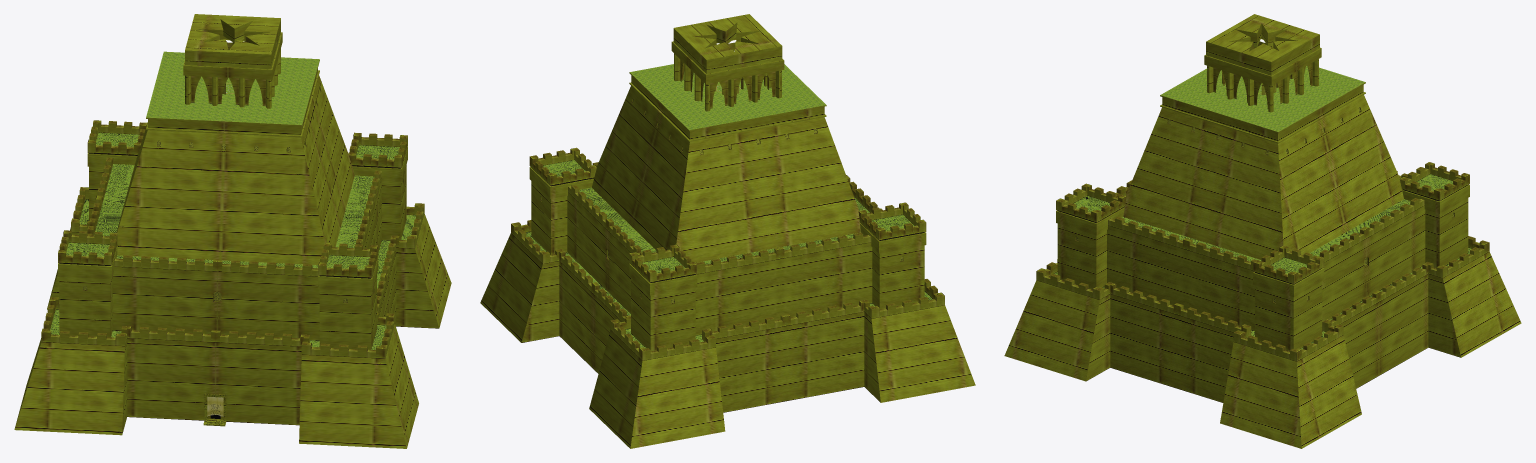
Rendered from Akademie_Brabak.dae.
The picture shows the model from 3 angles, left to right: view 1: azimuth 30°, elevation 25°; view 2: azimuth 150°, elevation 25°; view 3: azimuth 270°, elevation 25°; orthographic projection. The views are drawn at different scales.
Visible parts, largest first — view 1: Erdgeschoss (×4), _1._Obergeschoss (×12), _2._Obergeschoss (×3), group_0 (×3), _3._Obergeschoss (×4); view 2: Erdgeschoss (×3), _2._Obergeschoss (×3), _1._Obergeschoss (×5), group_0 (×3), _3._Obergeschoss (×3); view 3: Erdgeschoss (×3), _2._Obergeschoss (×3), _1._Obergeschoss (×3), group_0 (×3), _3._Obergeschoss (×4).
Boxes of the visible parts, box(x1,y1,x2,y2) form: Erdgeschoss (×4): box(14, 214, 451, 448); _1._Obergeschoss (×12): box(58, 132, 407, 349); _2._Obergeschoss (×3): box(116, 75, 354, 264); group_0 (×3): box(146, 14, 319, 124); _3._Obergeschoss (×4): box(146, 51, 310, 137); Erdgeschoss (×3): box(480, 233, 975, 448); _2._Obergeschoss (×3): box(592, 86, 860, 262); _1._Obergeschoss (×5): box(529, 167, 926, 351); group_0 (×3): box(629, 14, 825, 130); _3._Obergeschoss (×3): box(659, 58, 826, 141); Erdgeschoss (×3): box(1004, 252, 1521, 448); _2._Obergeschoss (×3): box(1123, 95, 1403, 259); _1._Obergeschoss (×3): box(1056, 184, 1469, 351); group_0 (×3): box(1160, 14, 1365, 131); _3._Obergeschoss (×4): box(1160, 62, 1365, 143).
Size of the model in its own units: 4452 by 4452 by 2865.
